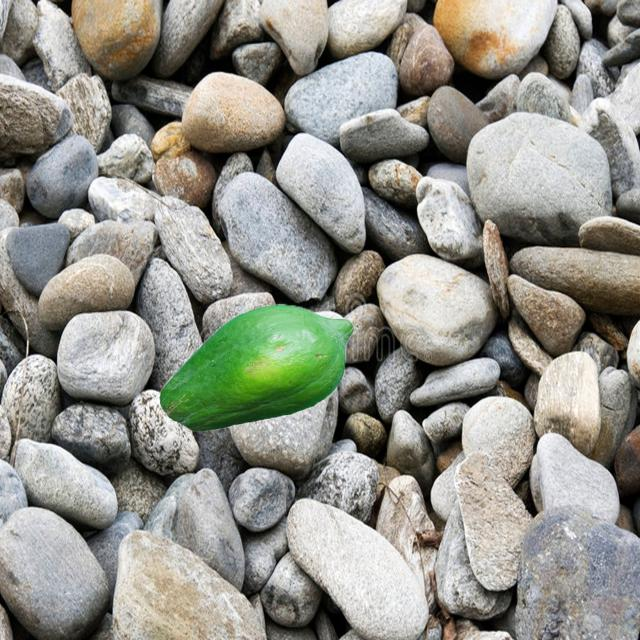Pepaya unrippen: (155, 302, 359, 428)
